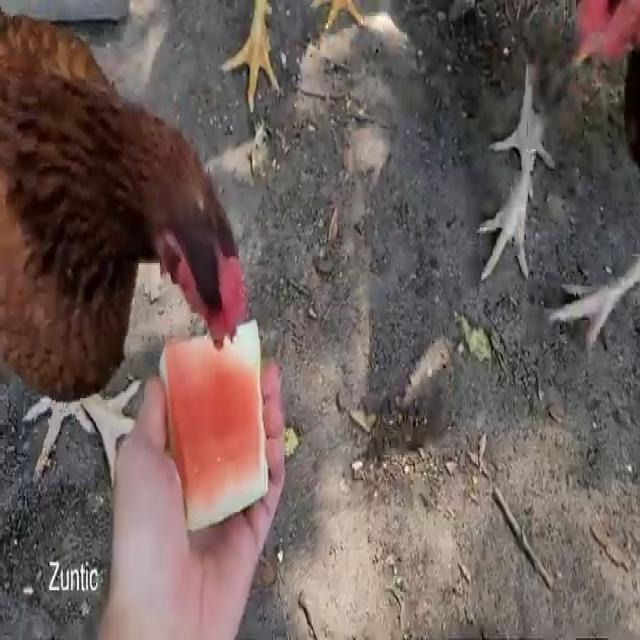feeding: (0, 39, 247, 462)
